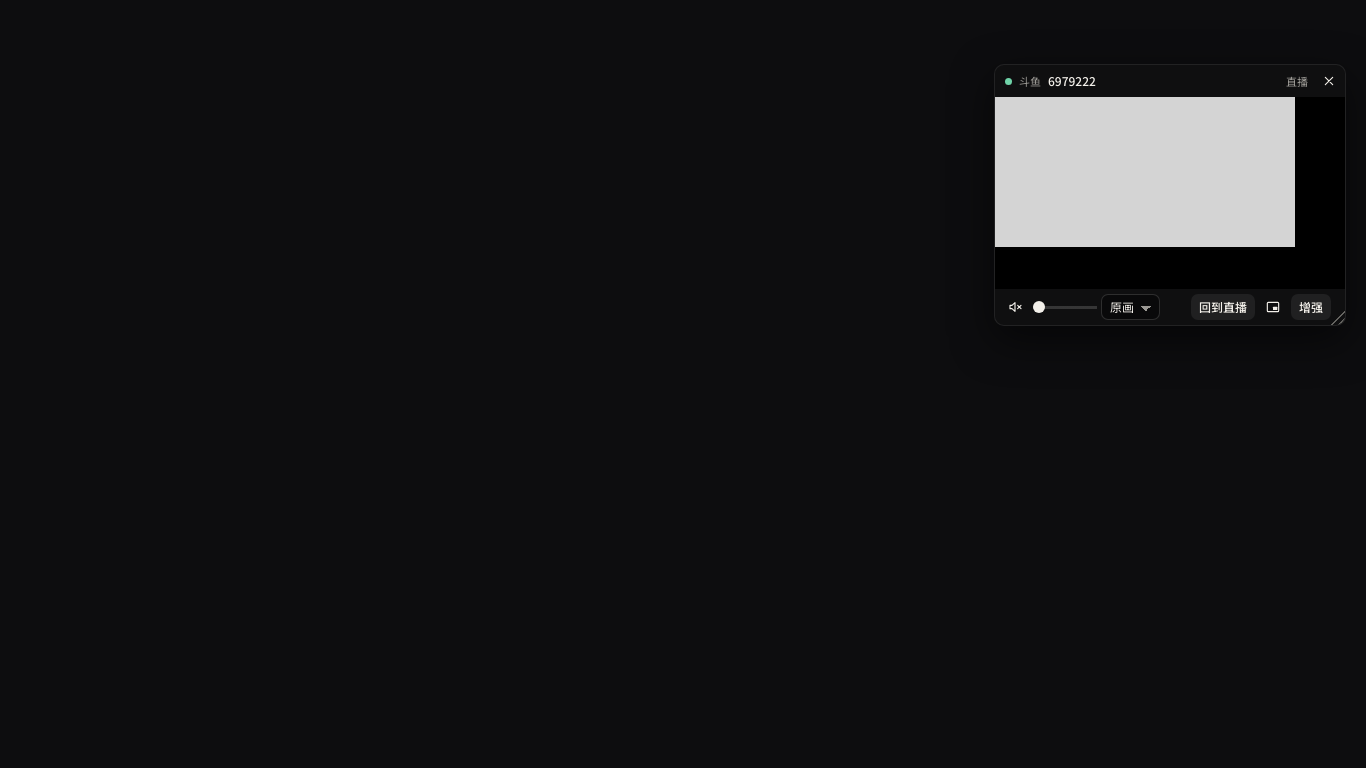
Test case: extra stream windows › reports why the system picture-in-picture did not open
This screenshot has width=1366, height=768.
What coordinates should you click on to do the following:
click the button named "系统画中画"
I would click on:
 (1273, 307)
Its box is [1259,293,1287,321].
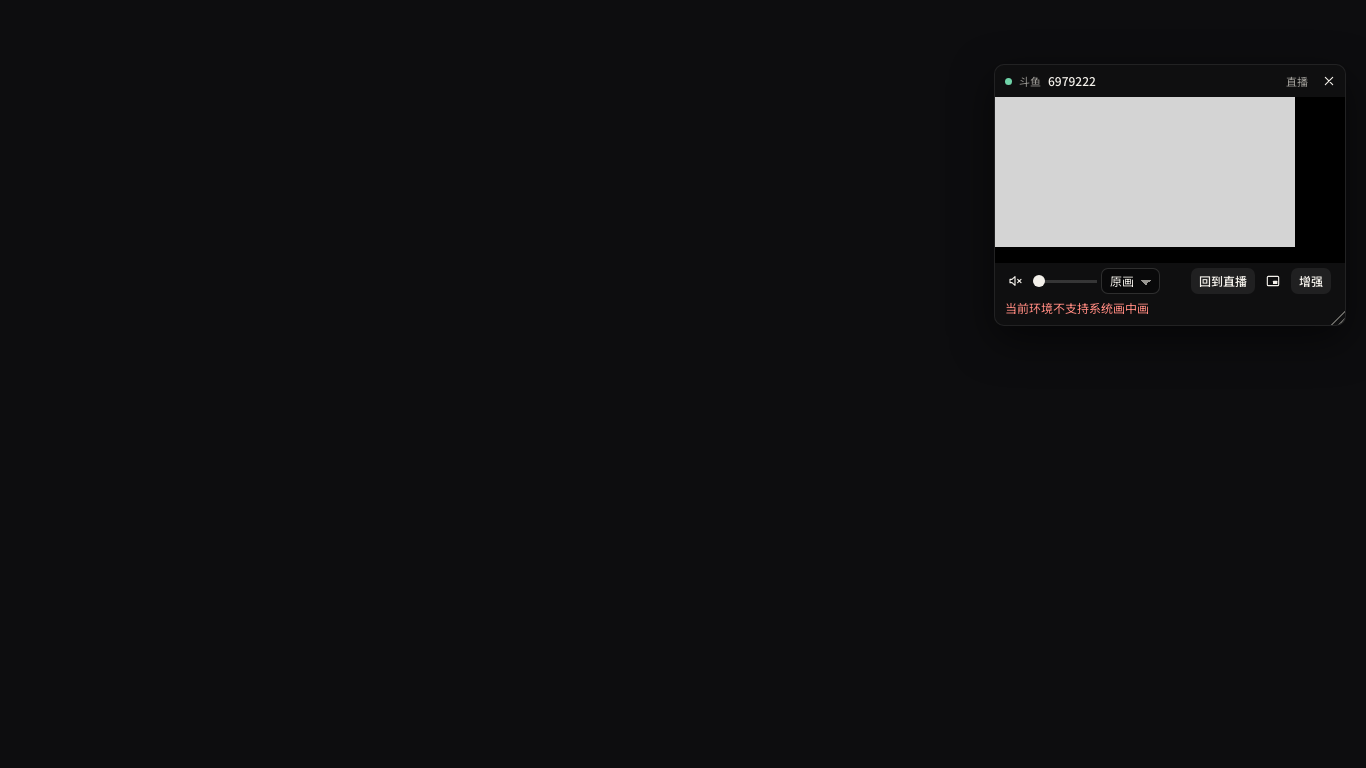
Now the message reads "当前环境不支持系统画中画", box [1005,299,1149,316]
